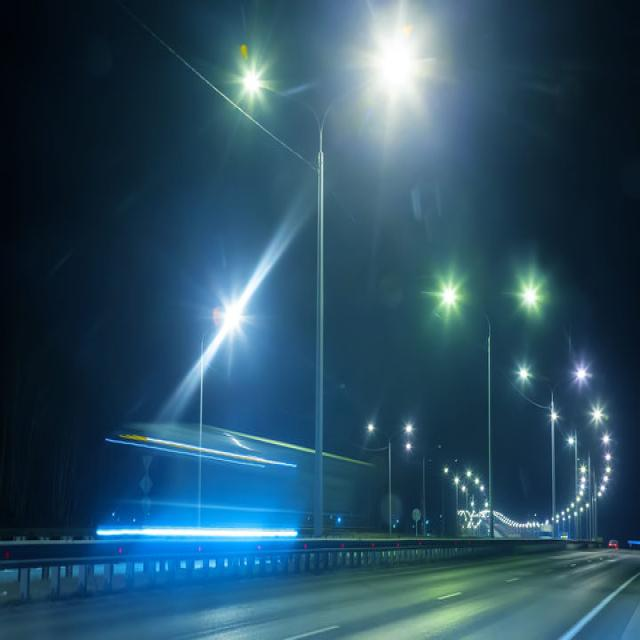Street Light: (244, 52, 417, 539), (434, 279, 540, 540), (522, 365, 588, 540), (197, 313, 243, 531), (367, 421, 413, 535), (445, 466, 471, 538), (407, 442, 426, 530), (455, 476, 461, 540), (462, 484, 468, 533)
